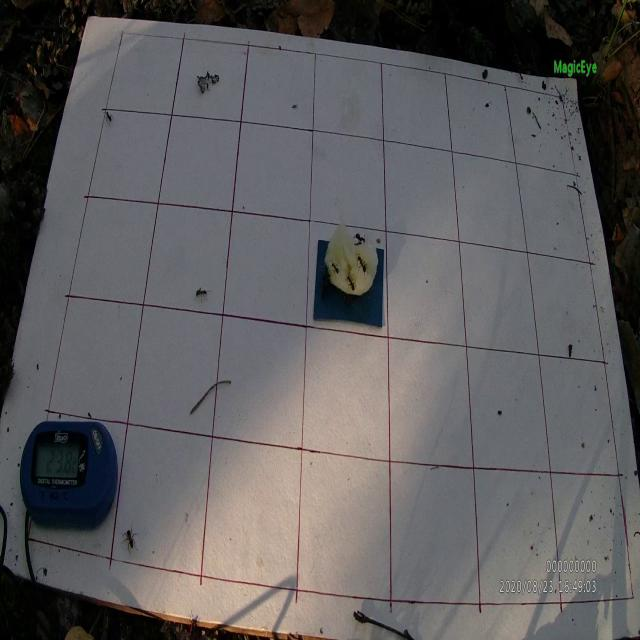Ant: (121, 526, 138, 557), (357, 254, 368, 281), (102, 108, 114, 128), (194, 288, 211, 302), (331, 258, 340, 280), (353, 230, 366, 245), (346, 274, 356, 293)
